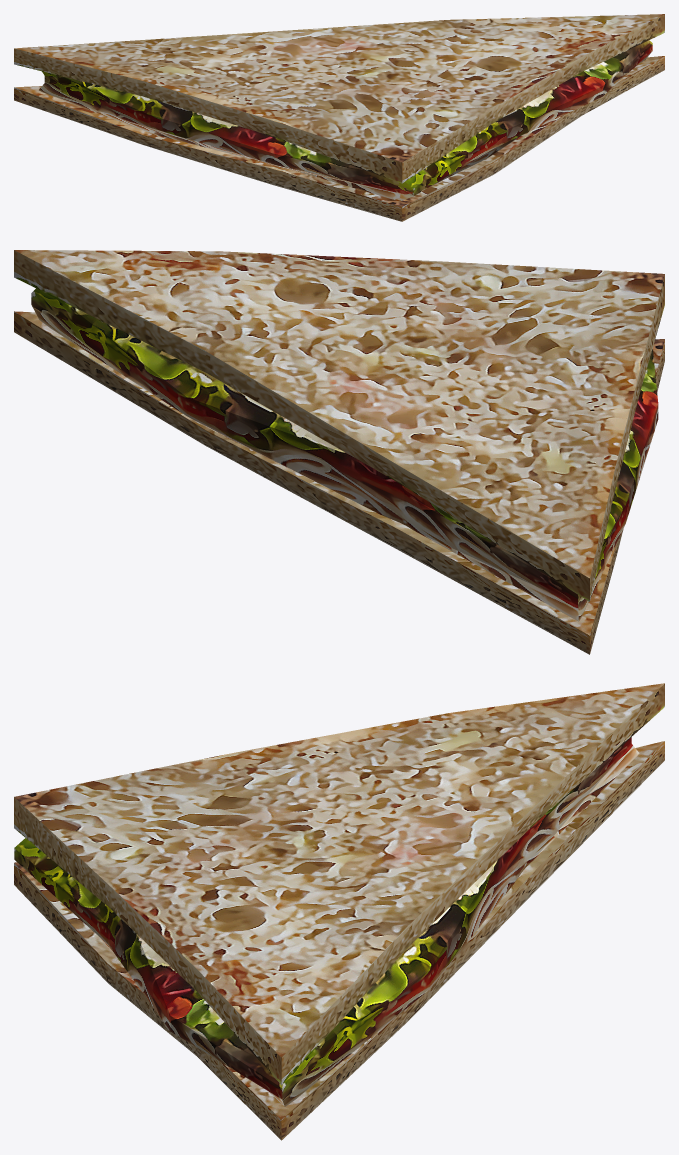
File: Sandwich.dae
3 views of the same model, one above another, from view 1: azimuth 30°, elevation 25°; view 2: azimuth 150°, elevation 25°; view 3: azimuth 270°, elevation 25° (orthographic). The views are drawn at different scales.
Visible parts, largest first — view 1: skp82B7 (×3); view 2: skp82B7 (×3); view 3: skp82B7 (×3).
Boxes of the visible parts, left/top/right/bottom form: skp82B7 (×3): left=14, top=14, right=664, bottom=221; skp82B7 (×3): left=14, top=250, right=664, bottom=654; skp82B7 (×3): left=14, top=683, right=664, bottom=1140.
Bounding box in the file's own units: 7.32 × 5.34 × 0.9011.
Materials: 1 (1 with a texture image).
